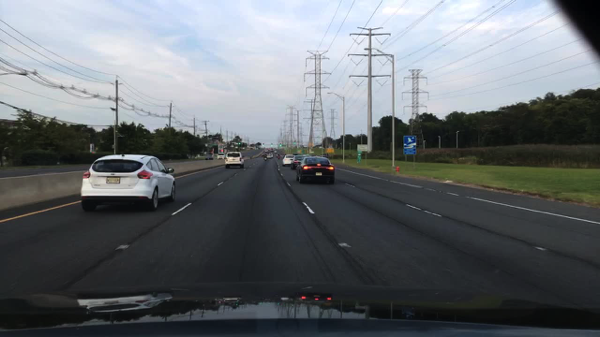car: (81, 156, 176, 212), (294, 157, 336, 185), (224, 152, 245, 169), (289, 154, 311, 168), (282, 153, 296, 166), (216, 151, 226, 159), (205, 154, 213, 160), (266, 154, 274, 160)
rider: (264, 154, 268, 159), (277, 155, 281, 160), (265, 156, 268, 162), (278, 153, 280, 159)
traffic sign: (403, 135, 416, 157), (356, 144, 368, 152), (325, 147, 334, 154), (356, 152, 361, 162)
